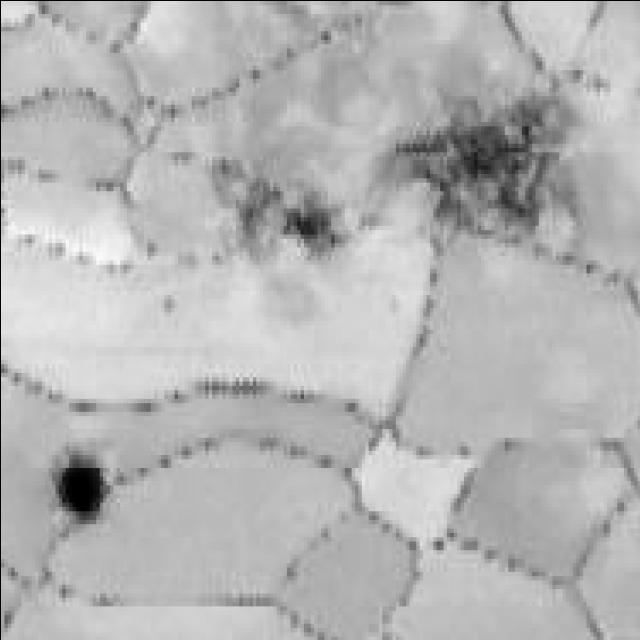good_void: (400, 90, 566, 251), (278, 192, 344, 263), (52, 453, 109, 528), (237, 181, 285, 241), (202, 154, 248, 210)
